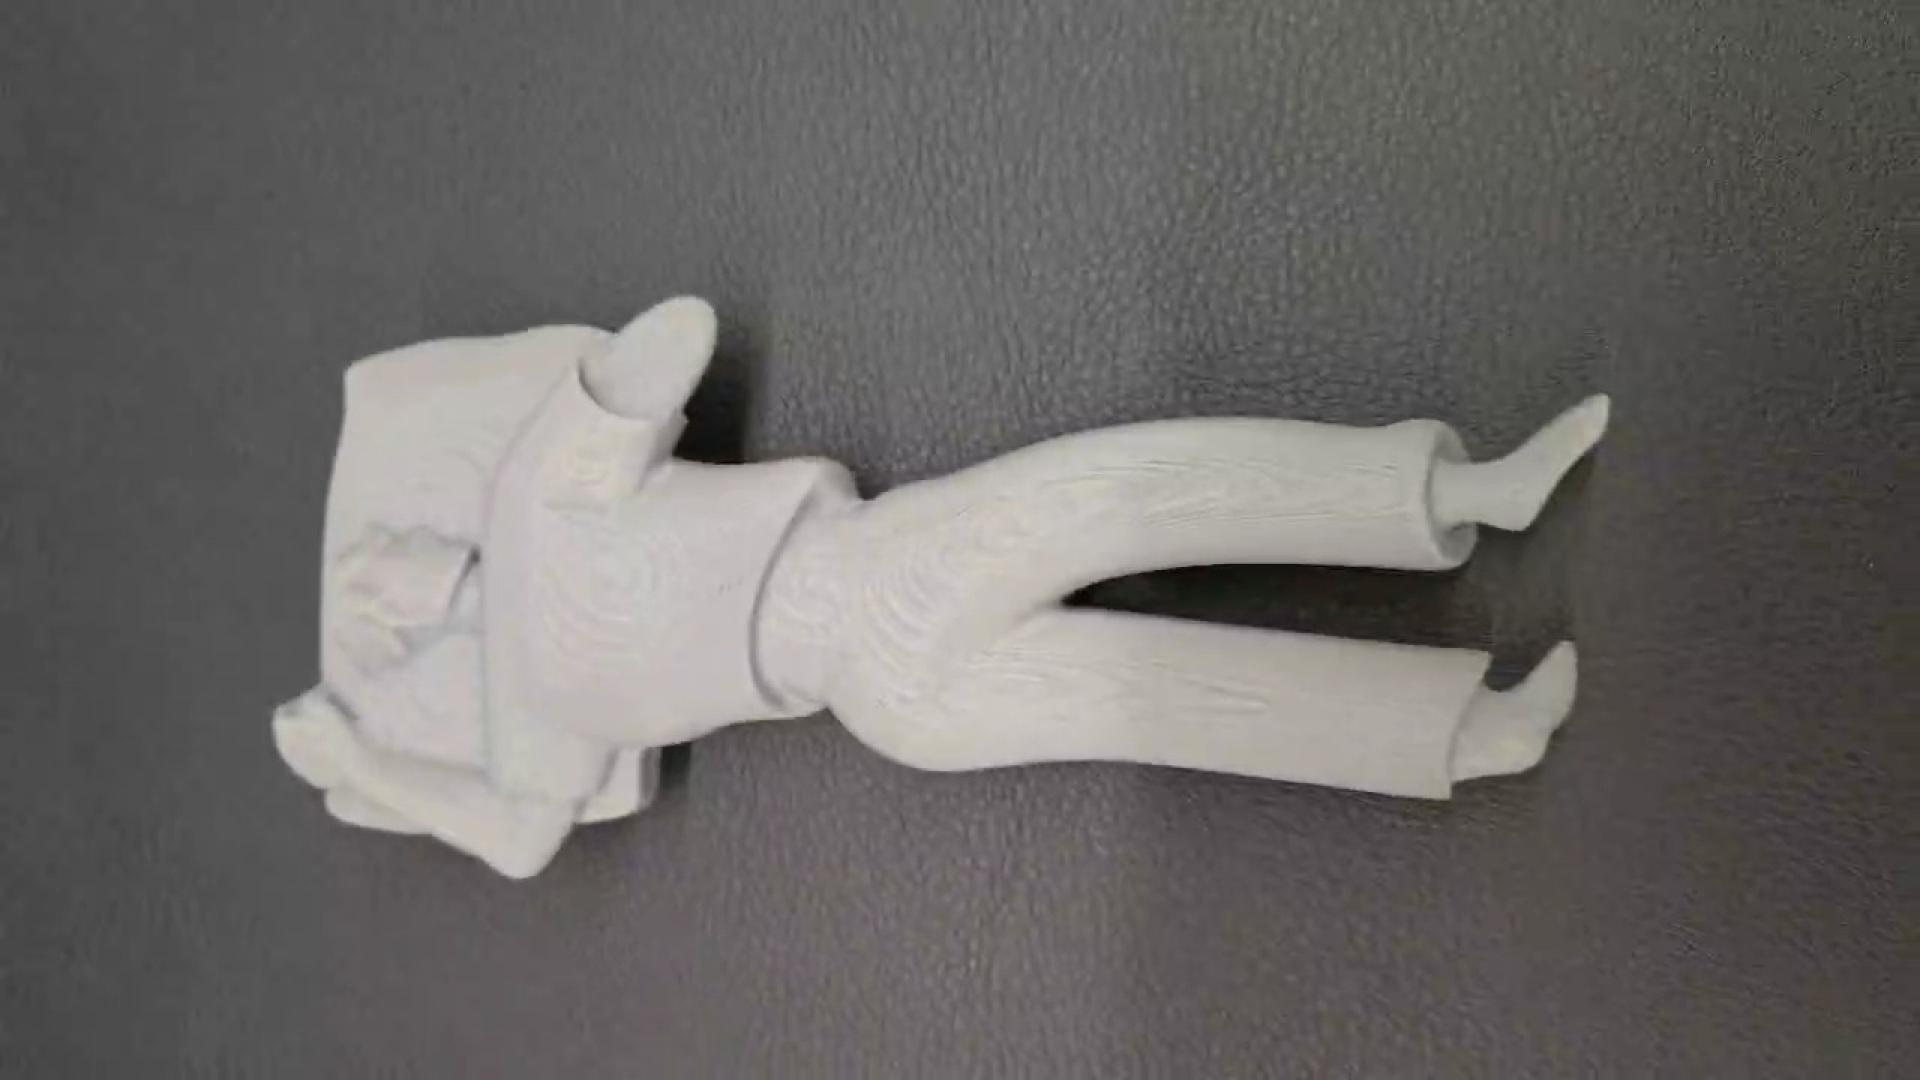Bad-style: (269, 295, 1614, 882)
